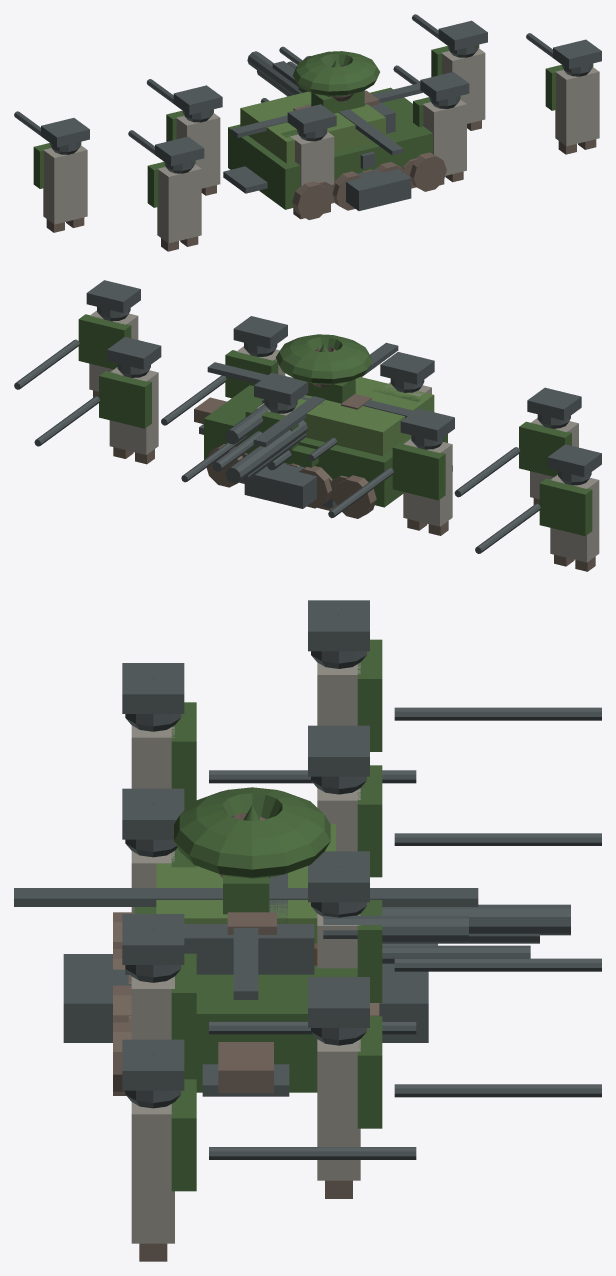
File: WarfrontEquipment.glb
3 renders of one model, top to bottom at view 1: azimuth 30°, elevation 25°; view 2: azimuth 150°, elevation 25°; view 3: azimuth 270°, elevation 25°, orthographic. The views are drawn at different scales.
Parts seen in each view (by area): view 1: Soldiers, CzechAPC, CzechOperator, CzechAircraft, CzechHelicopter, Tanks; view 2: Soldiers, CzechAPC, CzechOperator, CzechHelicopter, CzechAircraft, Tanks; view 3: Soldiers, CzechAPC, CzechOperator, CzechHelicopter, CzechAircraft, Tanks.
Boxes of the visible parts, x1,y1,x2,y2 form: Soldiers: [14, 14, 601, 251]; CzechAPC: [228, 56, 446, 219]; CzechOperator: [287, 51, 379, 113]; CzechAircraft: [223, 166, 411, 210]; CzechHelicopter: [231, 61, 423, 155]; Tanks: [247, 51, 417, 205]; Soldiers: [14, 280, 601, 571]; CzechAPC: [204, 377, 447, 518]; CzechOperator: [212, 334, 372, 471]; CzechHelicopter: [194, 342, 414, 481]; CzechAircraft: [199, 424, 452, 508]; Tanks: [225, 399, 348, 503]; Soldiers: [122, 600, 601, 1261]; CzechAPC: [113, 824, 468, 1095]; CzechOperator: [174, 787, 530, 965]; CzechHelicopter: [14, 888, 539, 1093]; CzechAircraft: [63, 954, 428, 1096]; Tanks: [128, 904, 570, 1022].
Size of the model in its own units: 367 by 88 by 190.
